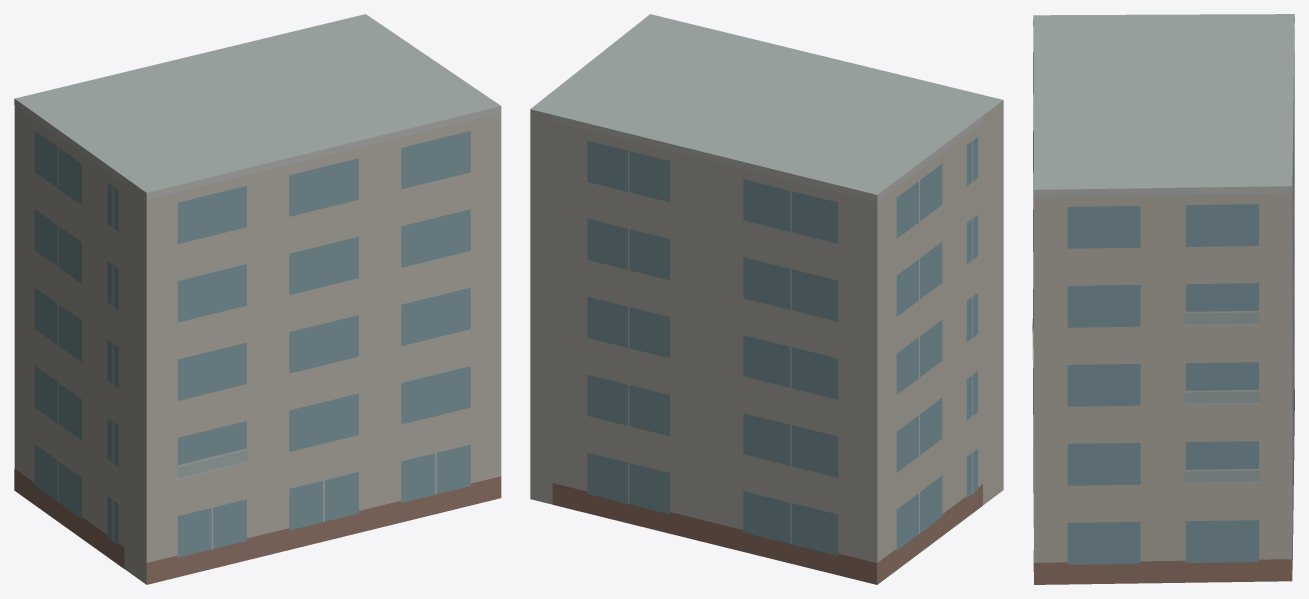
The model's file is survey-upis-32744052.glb.
The picture shows the model from 3 angles, left to right: view 1: azimuth 30°, elevation 25°; view 2: azimuth 150°, elevation 25°; view 3: azimuth 270°, elevation 25°; orthographic projection.
Parts seen in each view (by area): view 1: survey-upis-32744052.tmp; view 2: survey-upis-32744052.tmp; view 3: survey-upis-32744052.tmp.
Boxes of the visible parts, x1=… form: survey-upis-32744052.tmp: x1=14, y1=14, x2=501, y2=584; survey-upis-32744052.tmp: x1=530, y1=14, x2=1003, y2=584; survey-upis-32744052.tmp: x1=1032, y1=14, x2=1294, y2=584.
Size of the model in its own units: 13.18 by 13.8 by 8.32.
